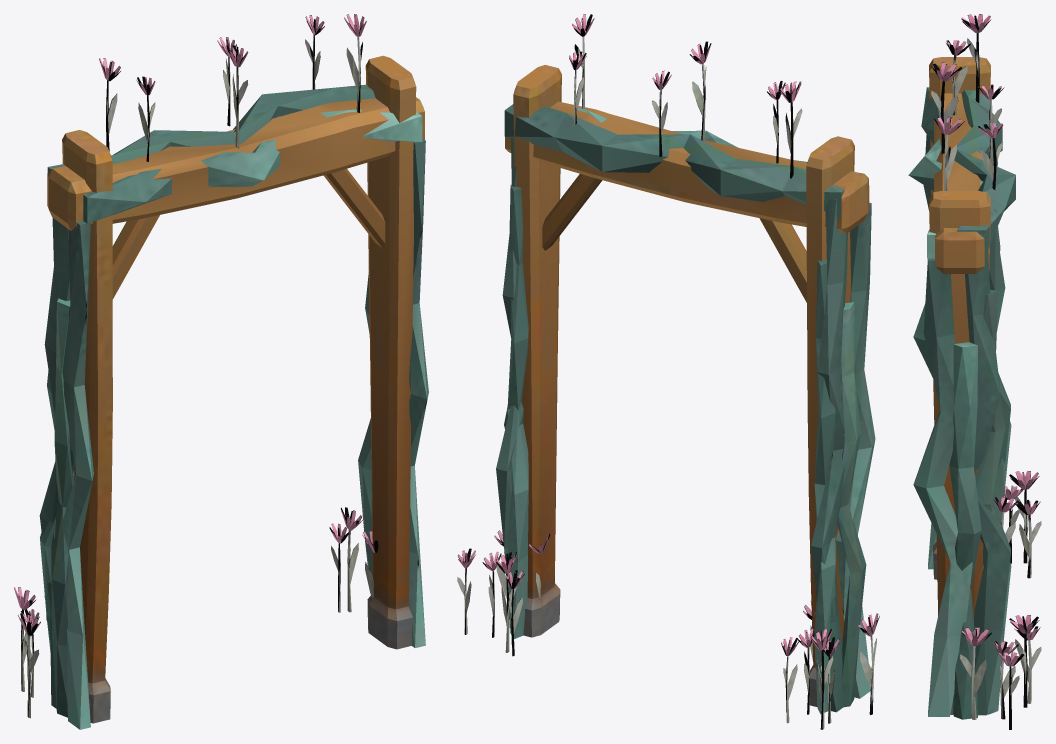
The model's file is arch_vines_low.glb.
3 views of the same model, side by side, from view 1: azimuth 30°, elevation 25°; view 2: azimuth 150°, elevation 25°; view 3: azimuth 270°, elevation 25° (orthographic). The views are drawn at different scales.
Visible parts, largest first — view 1: arch_vines_low; view 2: arch_vines_low; view 3: arch_vines_low.
Part boxes in pixels (x1,y1,x2,y2): arch_vines_low: (14,14,428,729); arch_vines_low: (457,14,879,729); arch_vines_low: (908,14,1041,729).
Size of the model in its own units: 1.45 by 2.14 by 0.45.
Materials: 1 (1 with a texture image).
